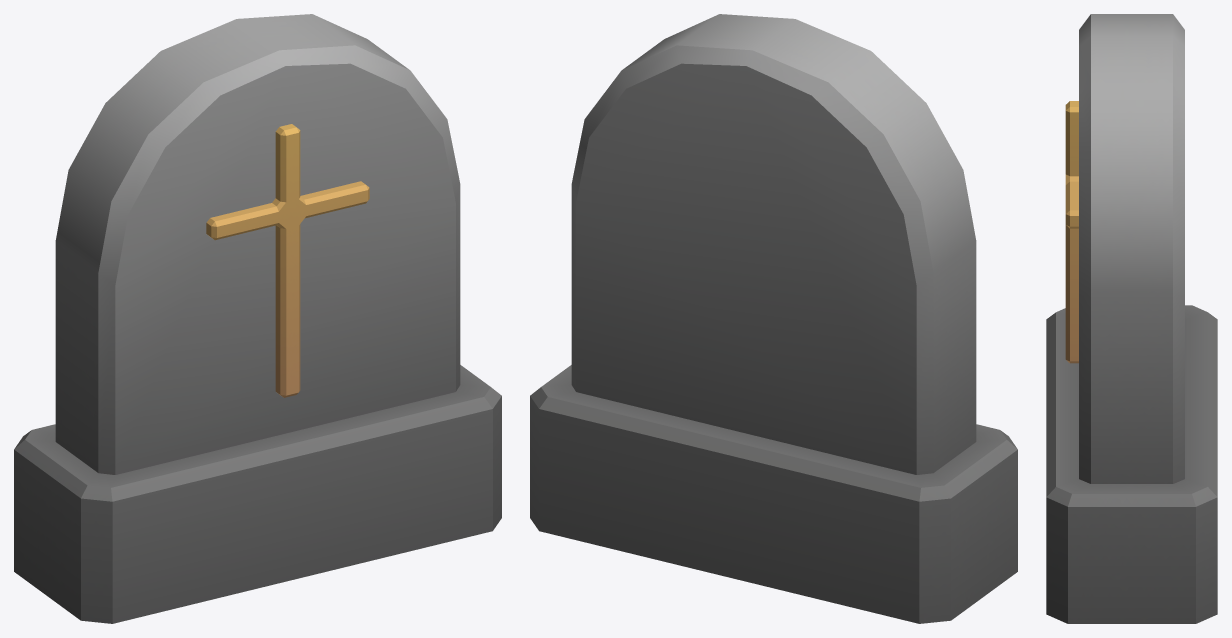
File: Tombstone7.fbx
3 renders of one model, left to right at view 1: azimuth 30°, elevation 25°; view 2: azimuth 150°, elevation 25°; view 3: azimuth 270°, elevation 25°, orthographic. The views are drawn at different scales.
Visible parts, largest first — view 1: Tombstone7; view 2: Tombstone7; view 3: Tombstone7.
Part boxes in pixels (left/top/right/bottom): Tombstone7: left=14, top=14, right=501, bottom=623; Tombstone7: left=530, top=14, right=1017, bottom=623; Tombstone7: left=1046, top=14, right=1217, bottom=623.
Bounding box in the file's own units: 1.16 × 1.35 × 0.4277.
Materials: 1 (1 with a texture image).
